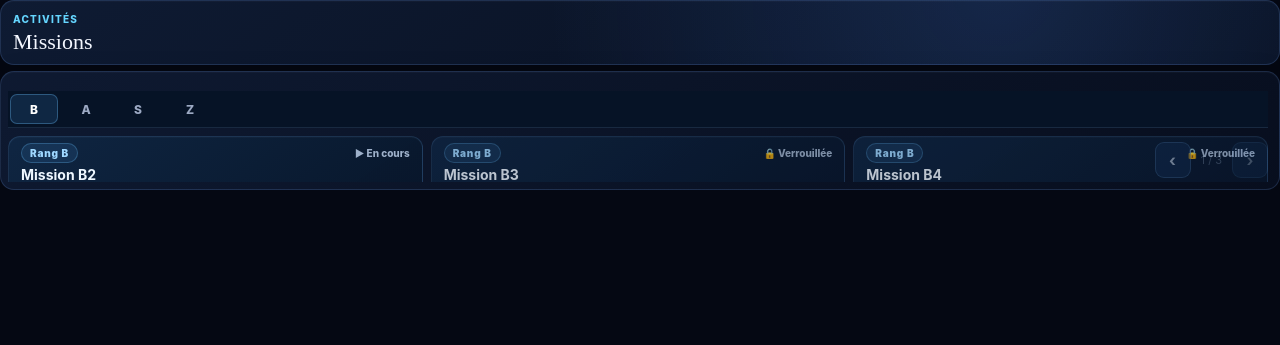
Test: MissionsScreen › switches B/A/S/Z locally without another GET and exposes the generic locked Z copy only
The width and height of the screenshot is (1280, 345).
Click the button "A".
click(86, 109)  # box [62,94,110,124]
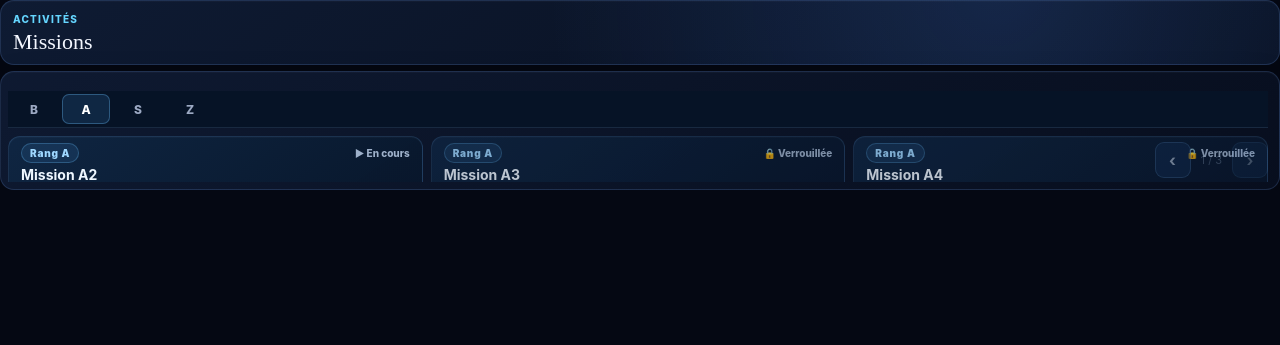
Click the button "S".
click(138, 109)  # box [114,94,162,124]
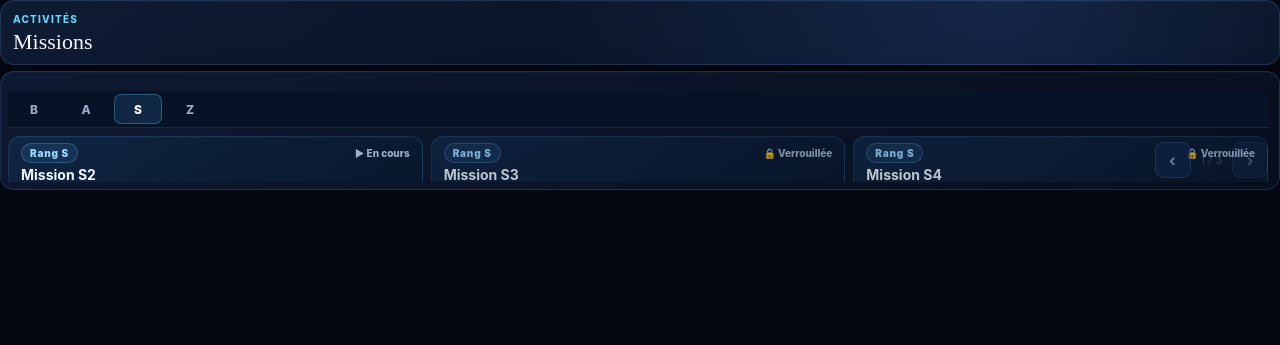
Click the button "Z".
click(190, 109)  # box [166,94,214,124]
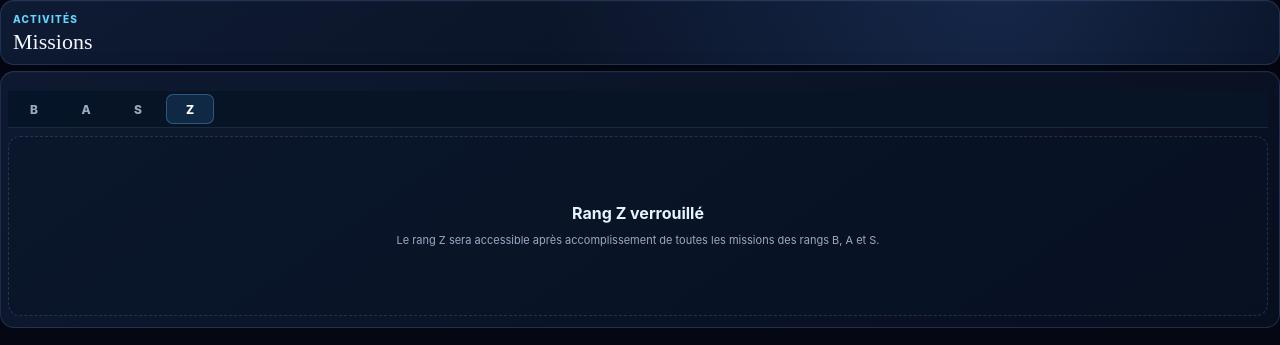
Result: the text "Le rang Z sera accessible après accomplissement de toutes les missions des rangs B, A et S." is shown at [396,233,880,247]
